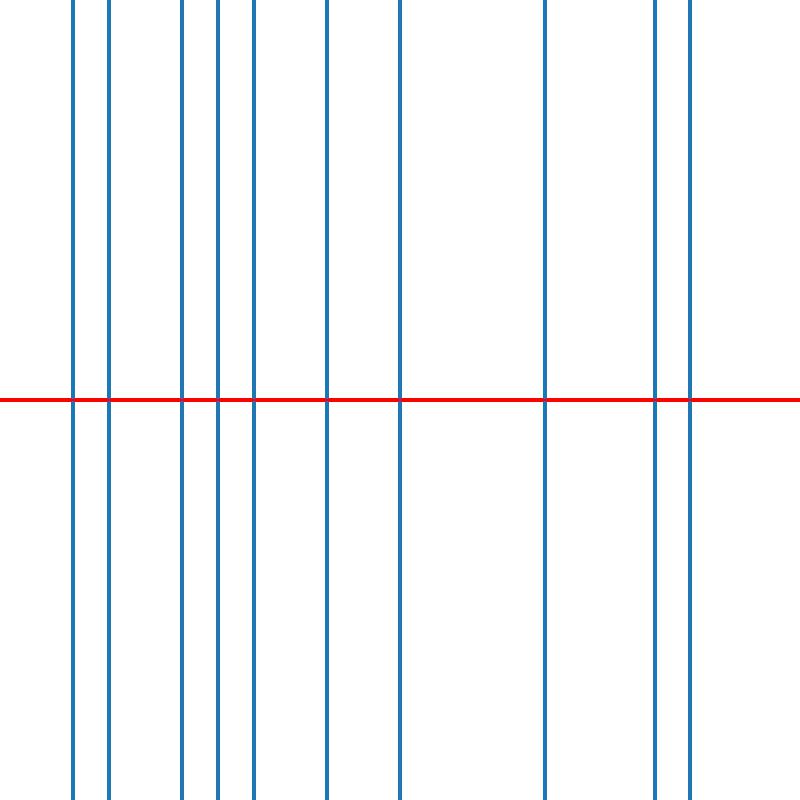root: (541, 396, 549, 404), (250, 396, 258, 404), (650, 396, 658, 404), (687, 396, 694, 404), (105, 396, 112, 404), (323, 396, 330, 404), (178, 396, 185, 404), (396, 396, 403, 404), (69, 396, 76, 404), (214, 396, 221, 404)
